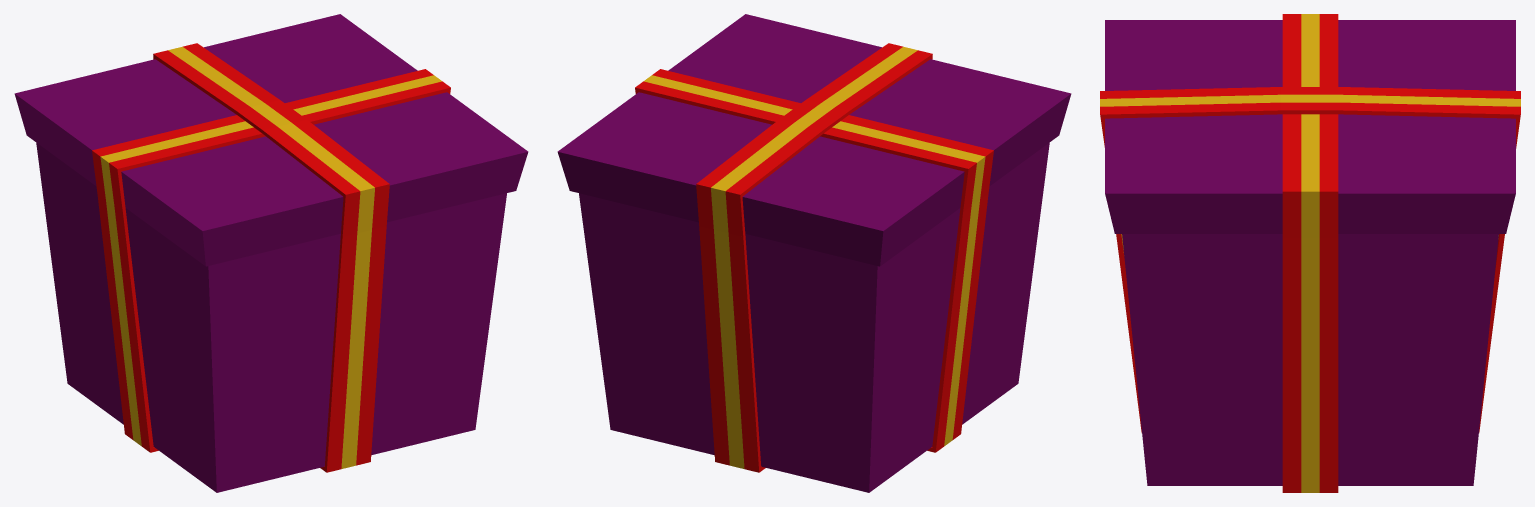
Rendered from Gift.fbx.
3 renders of one model, left to right at view 1: azimuth 30°, elevation 25°; view 2: azimuth 150°, elevation 25°; view 3: azimuth 270°, elevation 25°, orthographic. The views are drawn at different scales.
Parts seen in each view (by area): view 1: Gift, Gift.001; view 2: Gift, Gift.001; view 3: Gift, Gift.001.
Part boxes in pixels (x1,y1,x2,y2): Gift: [36, 143, 506, 492]; Gift.001: [14, 14, 528, 266]; Gift: [579, 143, 1049, 492]; Gift.001: [557, 14, 1071, 266]; Gift: [1116, 234, 1504, 492]; Gift.001: [1100, 14, 1520, 237].
Bounding box in the file's own units: 256 × 217 × 256.
